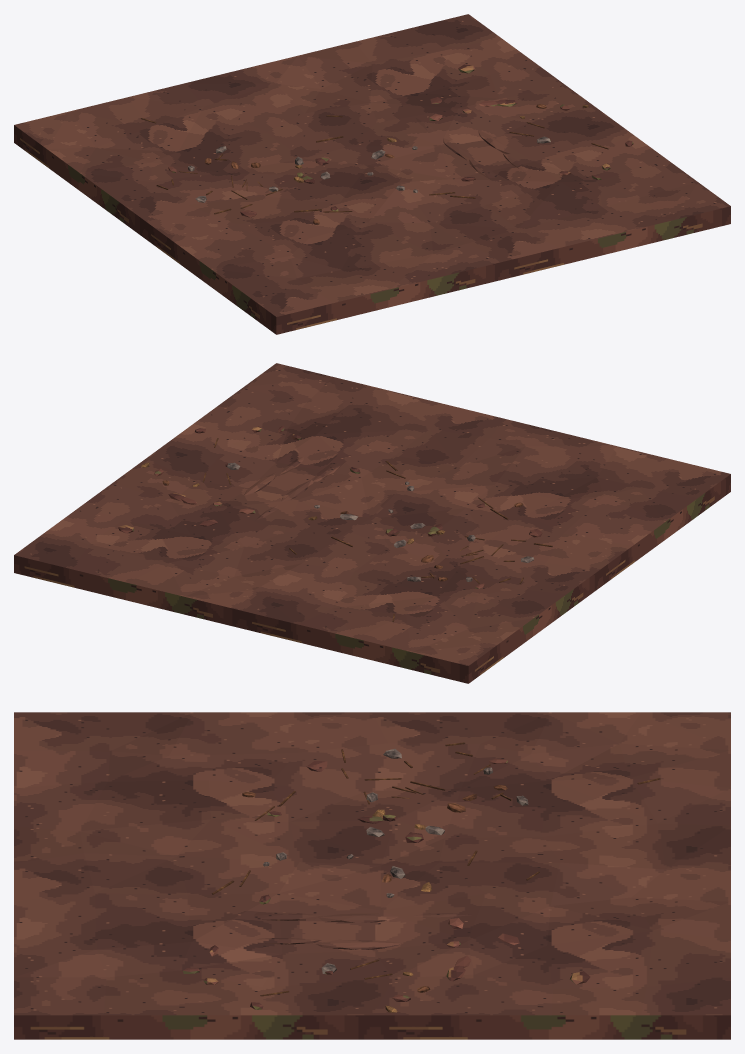
Rendered from SM_AN06_EarthFloor_B.fbx.
3 views of the same model, one above another, from view 1: azimuth 30°, elevation 25°; view 2: azimuth 150°, elevation 25°; view 3: azimuth 270°, elevation 25° (orthographic). The views are drawn at different scales.
Parts seen in each view (by area): view 1: AN06b_Floor, AN06b_Earth, AN06b_Props; view 2: AN06b_Floor, AN06b_Earth, AN06b_Props; view 3: AN06b_Floor, AN06b_Earth, AN06b_Props.
Boxes of the visible parts, left/top/right/bottom form: AN06b_Floor: left=14, top=14, right=730, bottom=316; AN06b_Earth: left=14, top=64, right=730, bottom=334; AN06b_Props: left=140, top=104, right=608, bottom=224; AN06b_Floor: left=14, top=363, right=730, bottom=665; AN06b_Earth: left=14, top=426, right=730, bottom=683; AN06b_Props: left=141, top=438, right=552, bottom=621; AN06b_Floor: left=14, top=712, right=730, bottom=1015; AN06b_Earth: left=14, top=758, right=730, bottom=1039; AN06b_Props: left=212, top=742, right=660, bottom=1012.
Bounding box in the file's own units: 4 × 0.1916 × 4.
